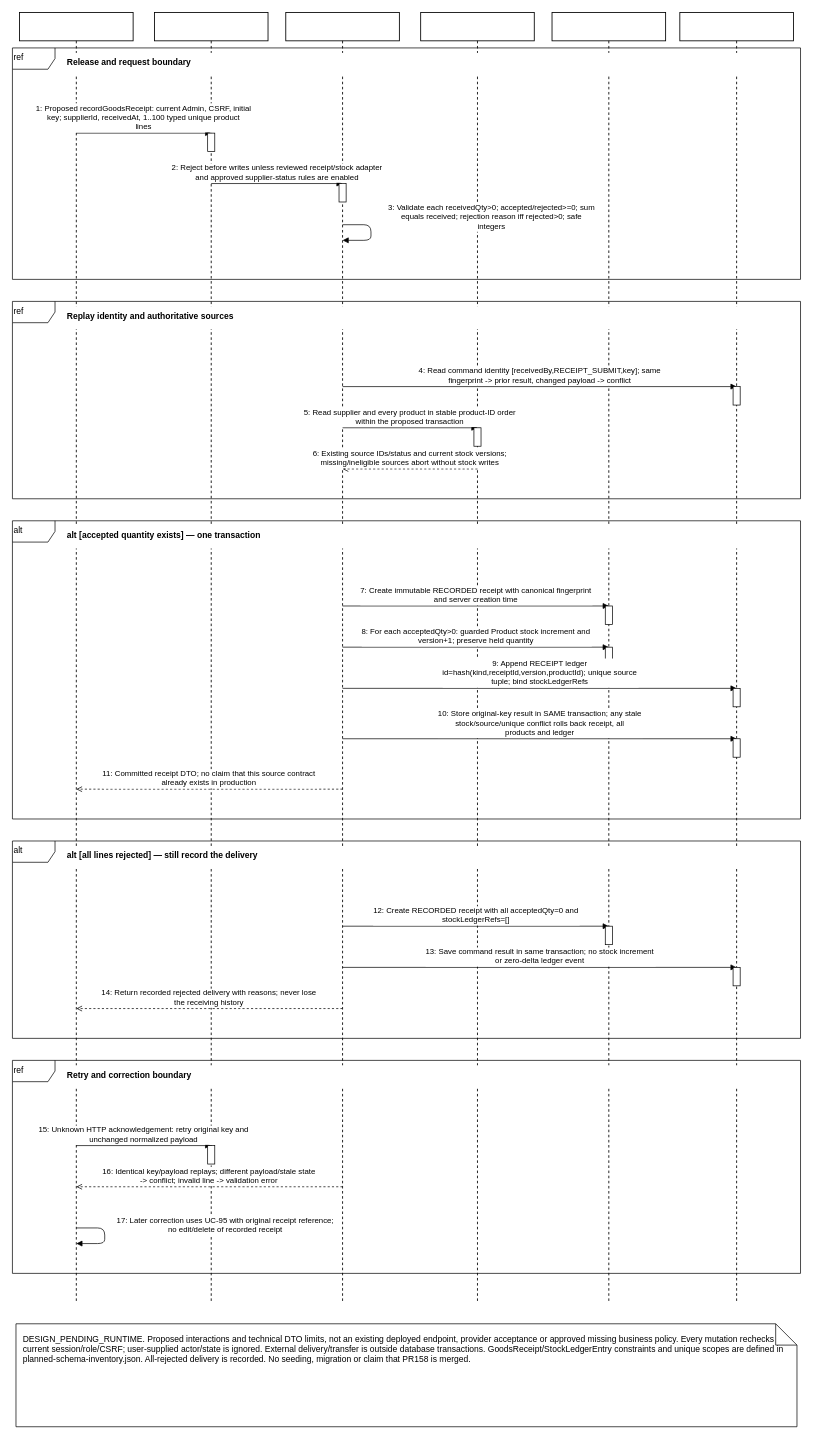
Some shapes in this 813 by 1440 pixel diagram are drawn without their labels. Each missing label, with the box of its shape:
: GoodsReceiptService (design): (285, 12, 399, 1303)
: Ledger / Command adapter: (679, 12, 793, 1303)
: MongoDB transaction: (551, 12, 666, 1303)
: Proposed ReceivingBoundary: (154, 12, 268, 1303)
: Supplier / Product source: (420, 12, 534, 1303)
Admin: (19, 12, 133, 1303)
